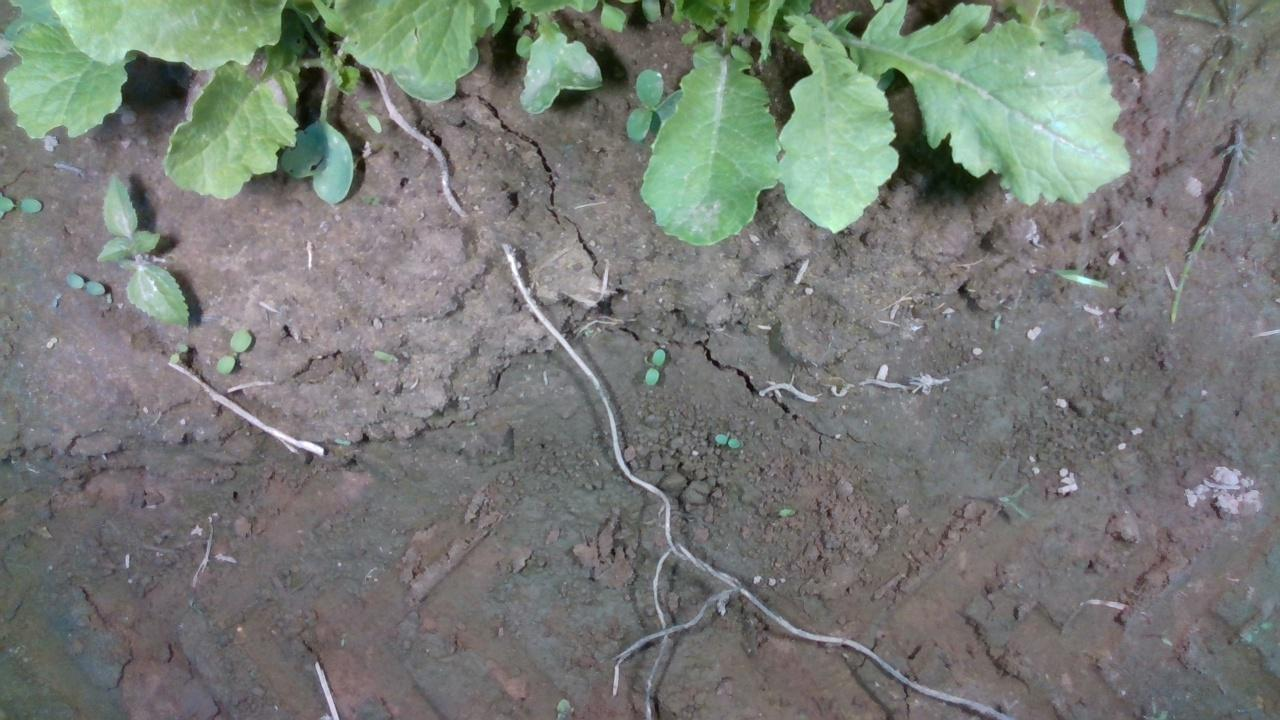weed: (212, 328, 253, 376), (62, 271, 105, 295), (642, 346, 666, 386), (168, 341, 189, 365), (712, 431, 741, 448), (43, 334, 58, 349), (49, 290, 61, 306), (104, 290, 111, 303)
